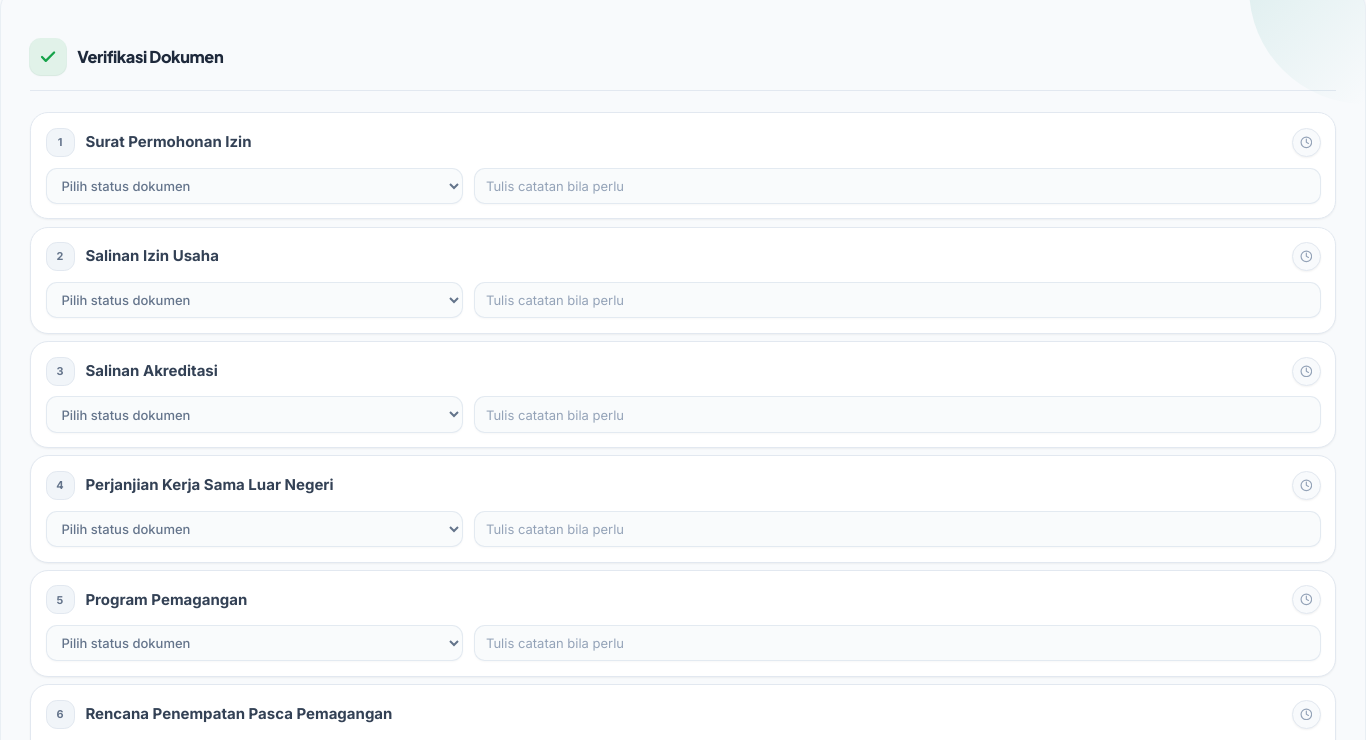
Test: session flow › shows dynamic final action button text as Lanjut/Perlu Perbaikan
The width and height of the screenshot is (1366, 740).
Select "Memerlukan Perbaikan" in the dropdown below "Surat Permohonan Izin" at (254, 186), box [46, 168, 463, 204]
(page scrolled)
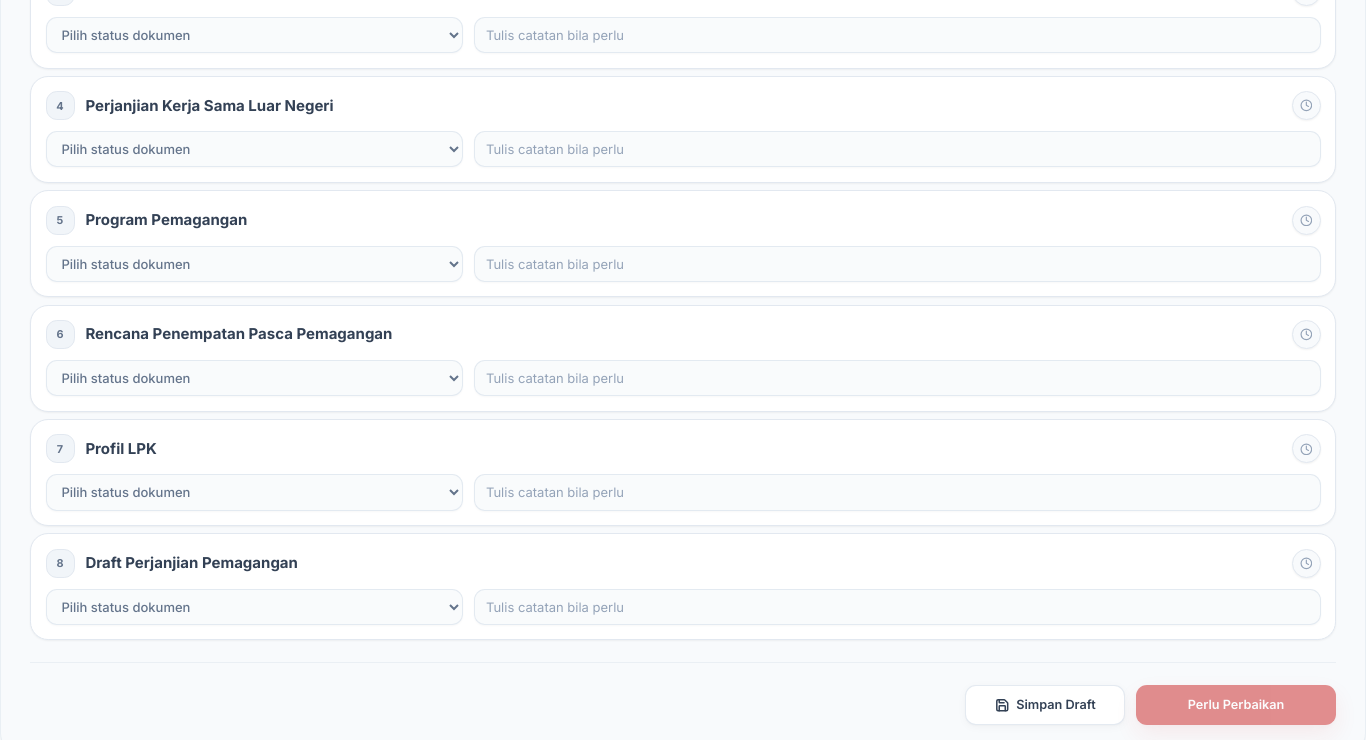
Now the button "Perlu Perbaikan" is shown, box [1136, 685, 1336, 725]
